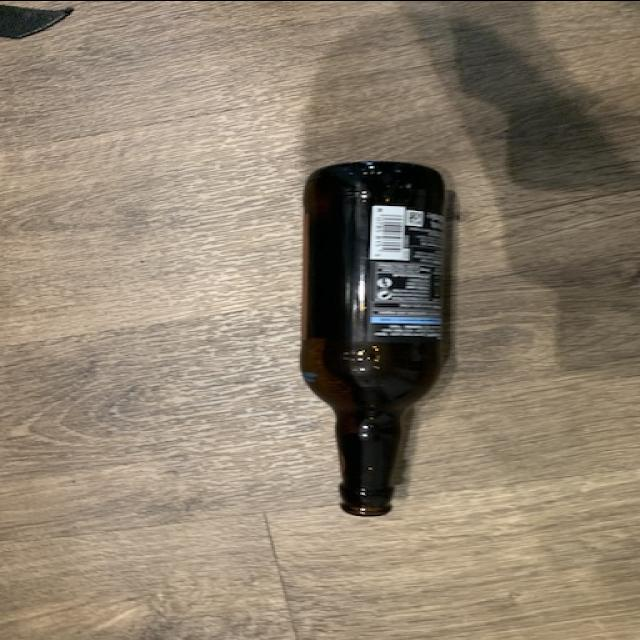litter: (296, 158, 456, 518)
